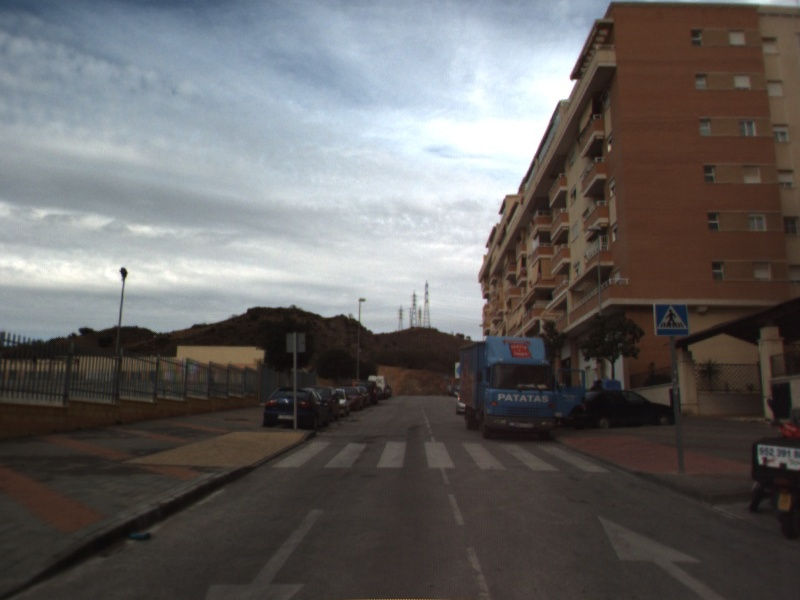STRAIGHT: (596, 513, 728, 600)
